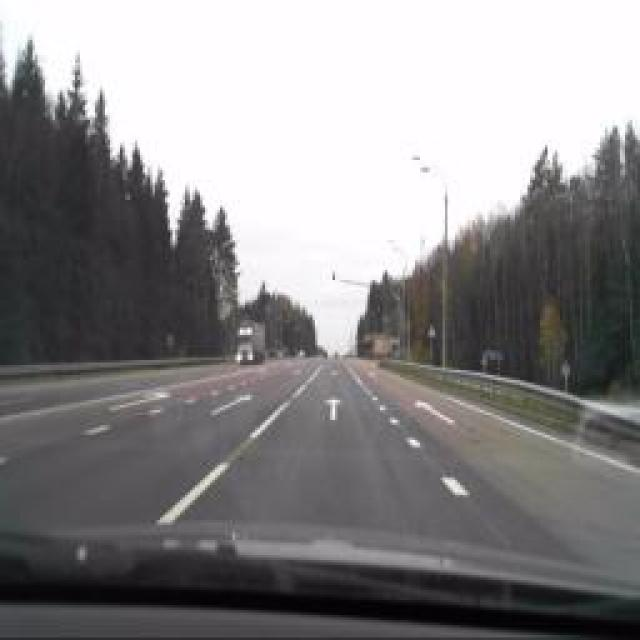sign: (425, 322, 437, 340)
